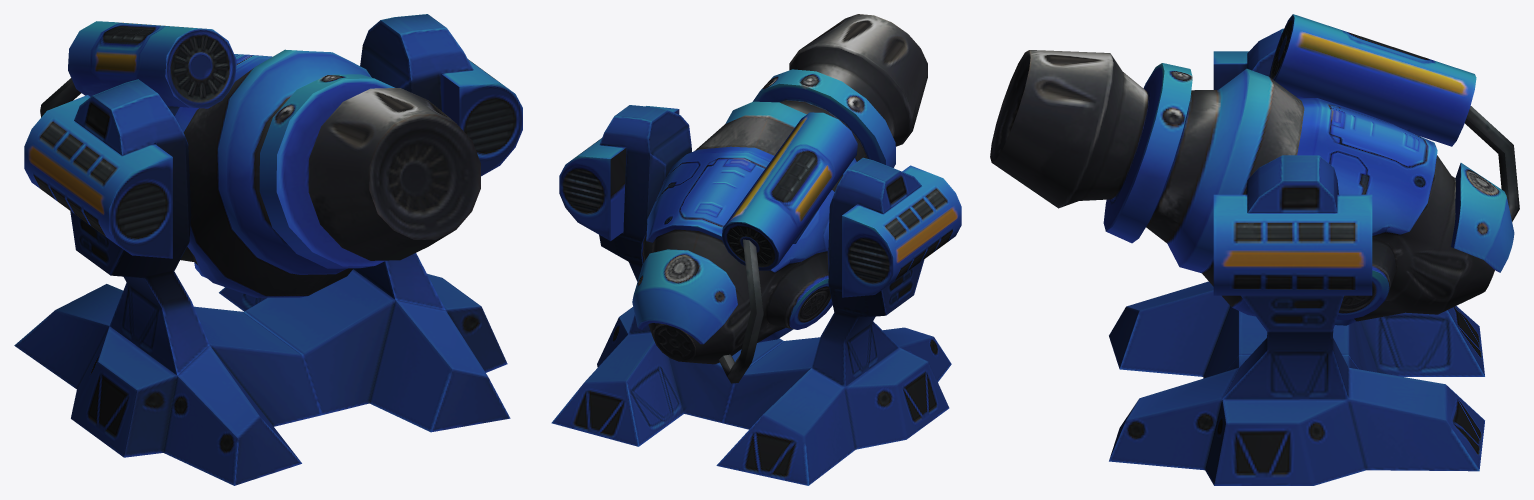
The model's file is Cannon_04.FBX.
The picture shows the model from 3 angles, left to right: view 1: azimuth 30°, elevation 25°; view 2: azimuth 150°, elevation 25°; view 3: azimuth 270°, elevation 25°; orthographic projection. The views are drawn at different scales.
Parts seen in each view (by area): view 1: Base, Turret; view 2: Base, Turret; view 3: Turret, Base.
Boxes of the visible parts, x1,y1,x2,y2 form: Base: (14, 14, 522, 485); Turret: (40, 21, 480, 297); Base: (551, 105, 961, 485); Turret: (632, 14, 927, 383); Turret: (990, 14, 1519, 325); Base: (1109, 28, 1484, 485).
Size of the model in its own units: 139 by 119 by 166.
1 material, 1 textured.
